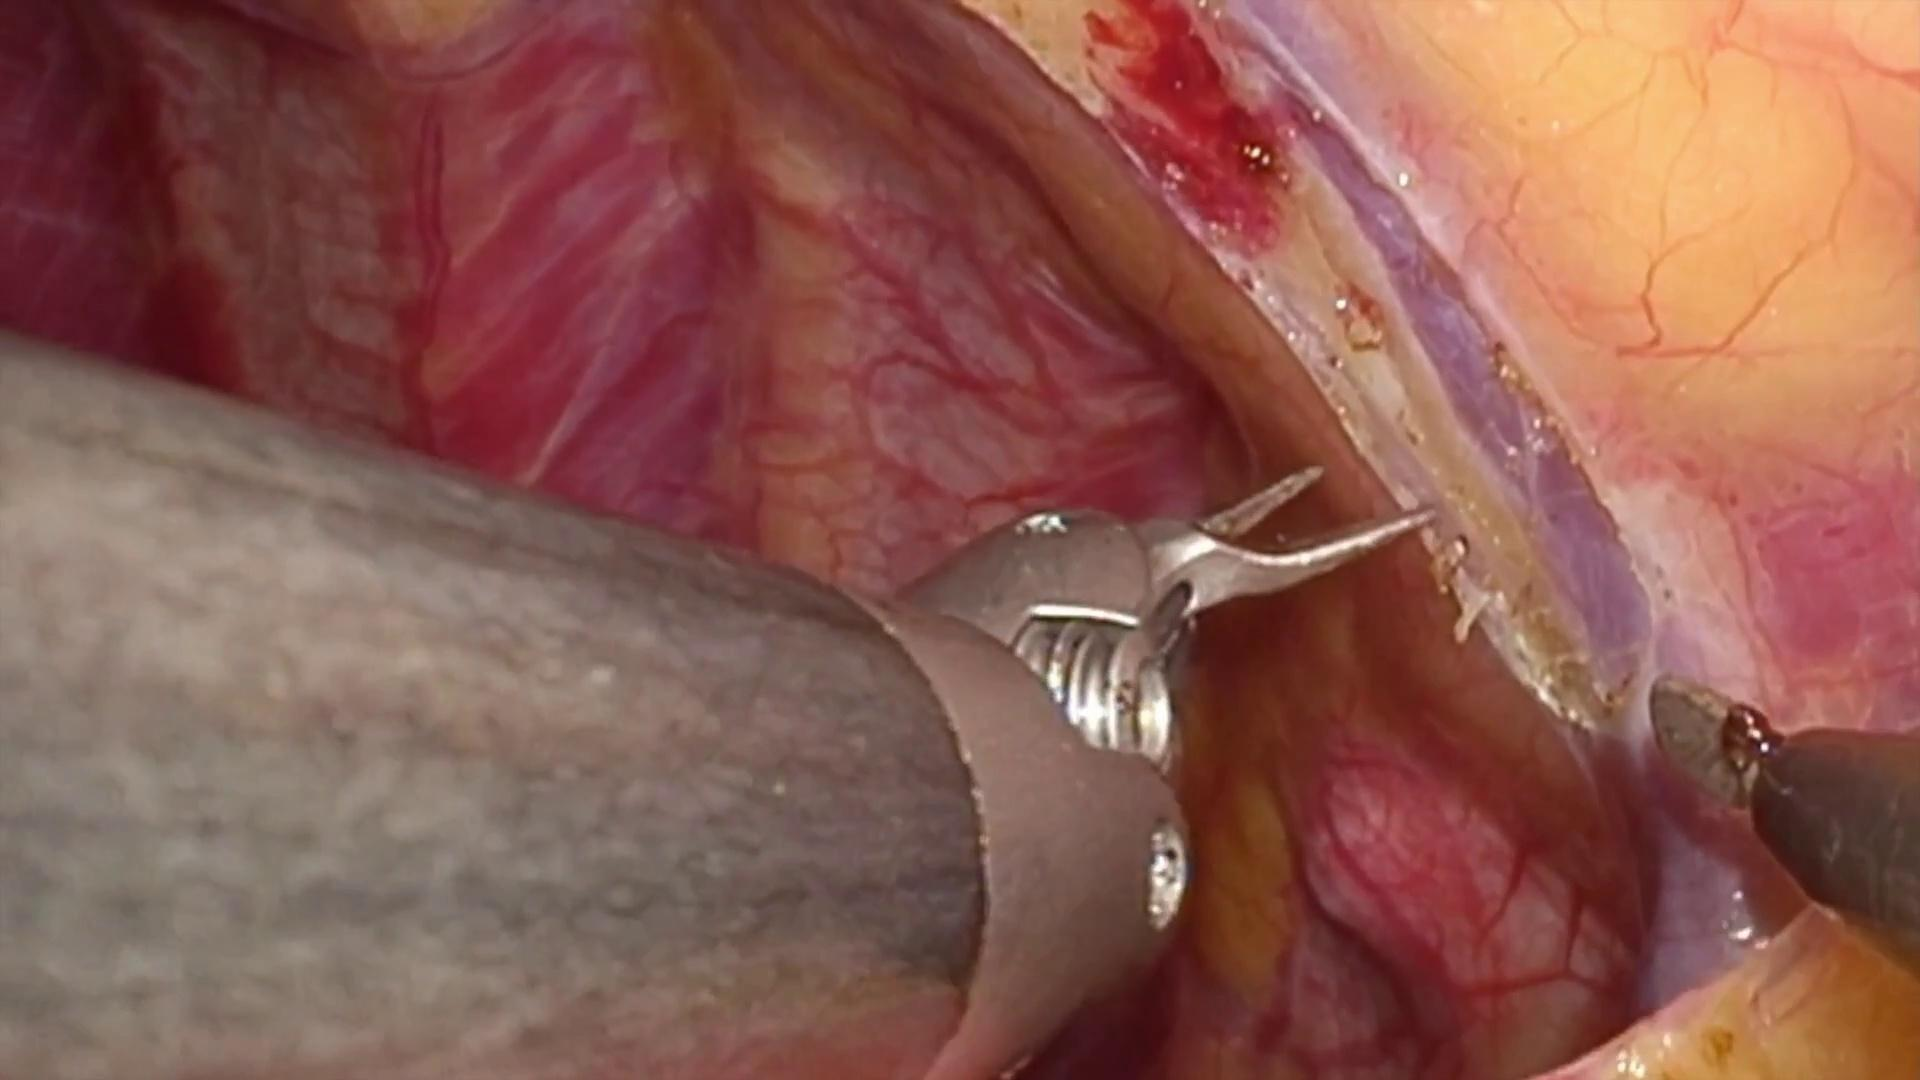Cautery_Spatula: (1644, 669, 1920, 989)
Debakey: (1135, 460, 1439, 659)
